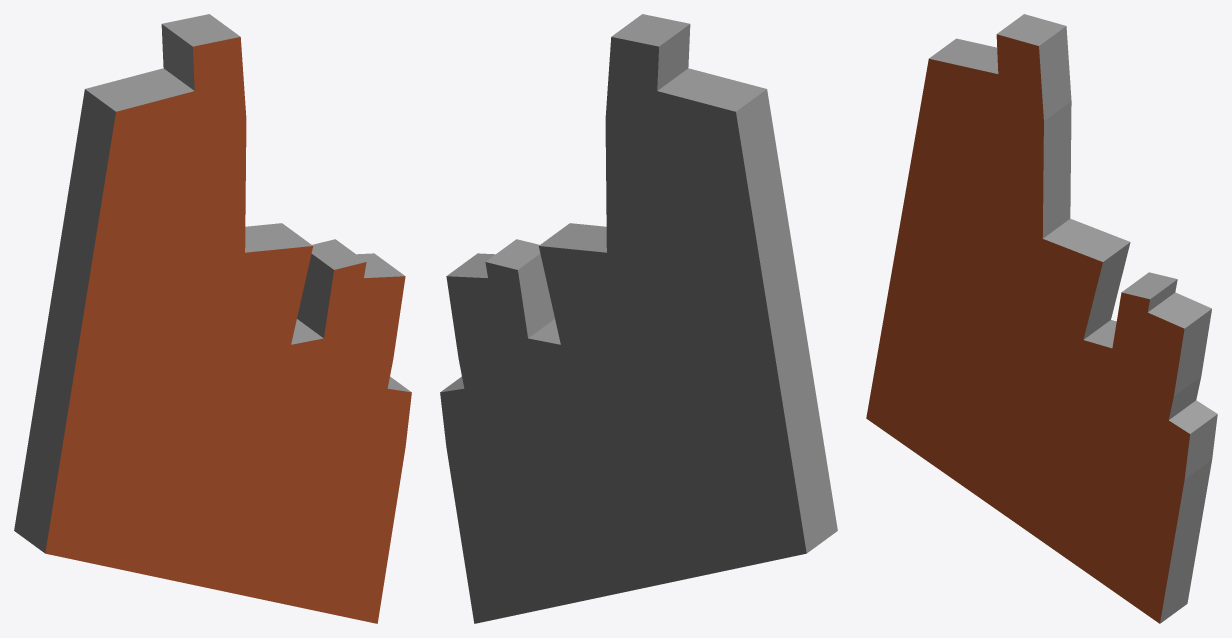
Rendered from construction_2647_assumed_A_Casa_h6m.obj.
The picture shows the model from 3 angles, left to right: view 1: azimuth 30°, elevation 25°; view 2: azimuth 150°, elevation 25°; view 3: azimuth 330°, elevation 25°; orthographic projection. The views are drawn at different scales.
Visible parts, largest first — view 1: construction_2647_assumed_A_Casa; view 2: construction_2647_assumed_A_Casa; view 3: construction_2647_assumed_A_Casa.
Part boxes in pixels (left/top/right/bottom): construction_2647_assumed_A_Casa: left=14, top=14, right=411, bottom=623; construction_2647_assumed_A_Casa: left=440, top=14, right=837, bottom=623; construction_2647_assumed_A_Casa: left=866, top=14, right=1217, bottom=623.
Size of the model in its own units: 40.71 by 66.04 by 6.
